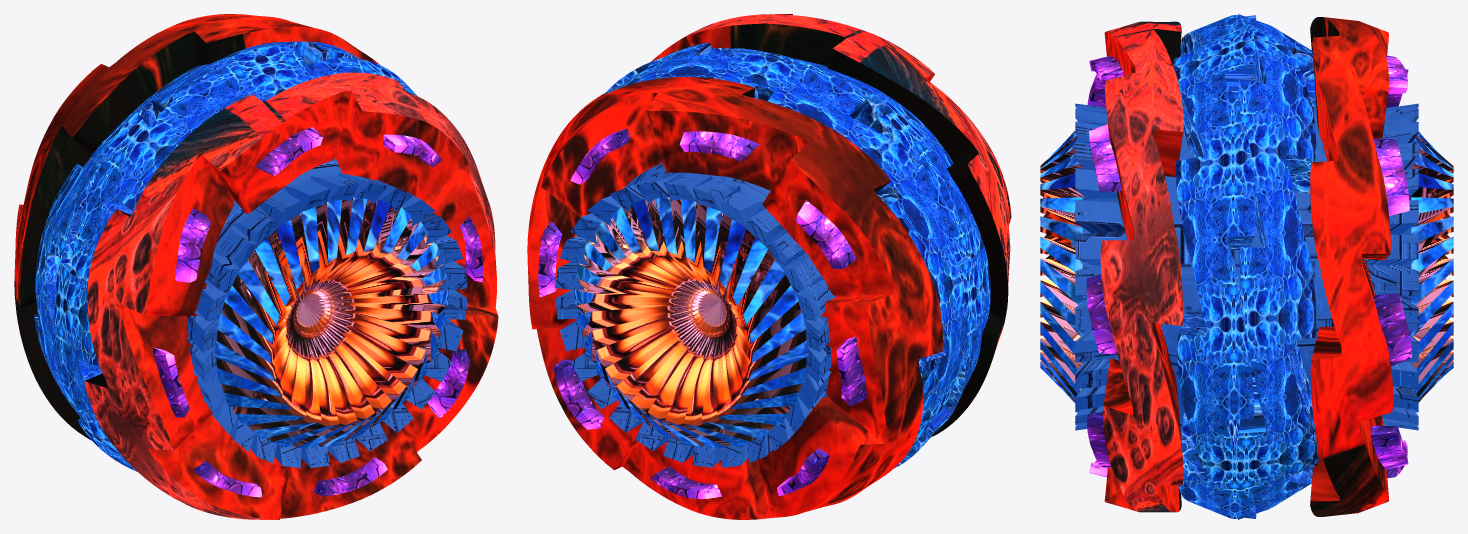
The model's file is RollingBalls_Sci-fi_4_5.glb.
The picture shows the model from 3 angles, left to right: view 1: azimuth 30°, elevation 25°; view 2: azimuth 150°, elevation 25°; view 3: azimuth 270°, elevation 25°; orthographic projection. The views are drawn at different scales.
Visible parts, largest first — view 1: RollingBalls_Sci-fi_4_5; view 2: RollingBalls_Sci-fi_4_5; view 3: RollingBalls_Sci-fi_4_5.
Boxes of the visible parts, x1,y1,x2,y2 form: RollingBalls_Sci-fi_4_5: [14, 14, 498, 519]; RollingBalls_Sci-fi_4_5: [527, 14, 1011, 519]; RollingBalls_Sci-fi_4_5: [1040, 14, 1453, 519].
Size of the model in its own units: 1.72 by 1.72 by 1.4.
8 materials, 7 textured.
